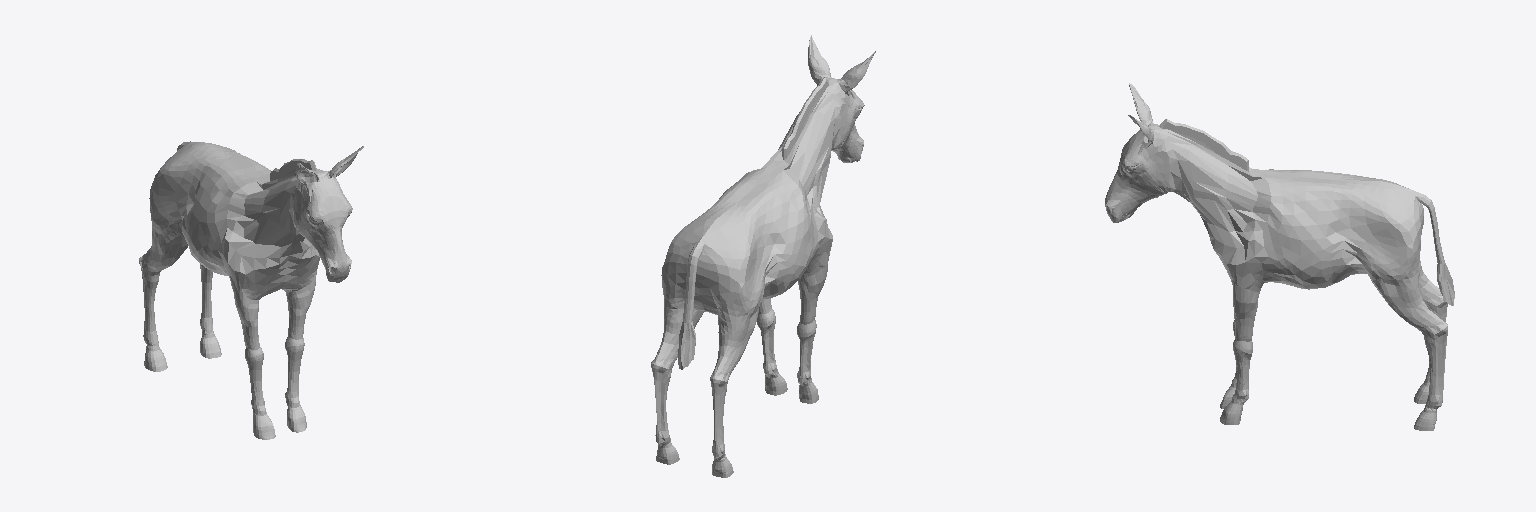
The model's file is DONKEY.OBJ.
The picture shows the model from 3 angles: view 1: azimuth 30°, elevation 25°; view 2: azimuth 150°, elevation 25°; view 3: azimuth 270°, elevation 25°; orthographic projection.
Visible parts, largest first — view 1: dnky_body; view 2: dnky_body; view 3: dnky_body.
Part boxes in pixels (left/top/right/bottom): dnky_body: left=139, top=141, right=363, bottom=439; dnky_body: left=651, top=35, right=875, bottom=477; dnky_body: left=1105, top=83, right=1454, bottom=430.
Bounding box in the file's own units: 0.5309 × 1.66 × 1.67.